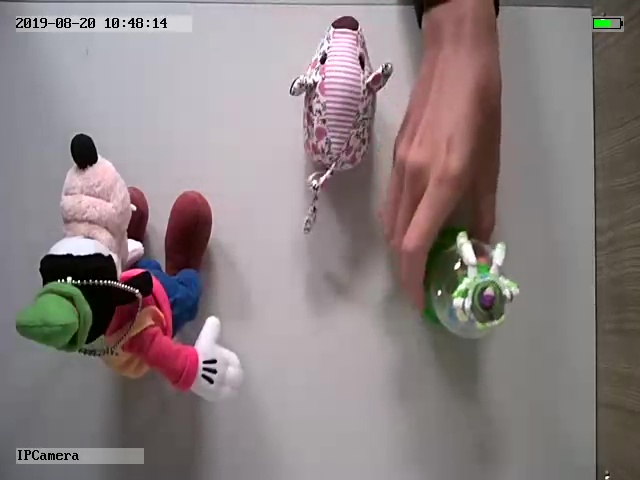buzz: (424, 230, 521, 341)
goofy: (12, 130, 245, 404)
pig: (286, 14, 394, 233)
